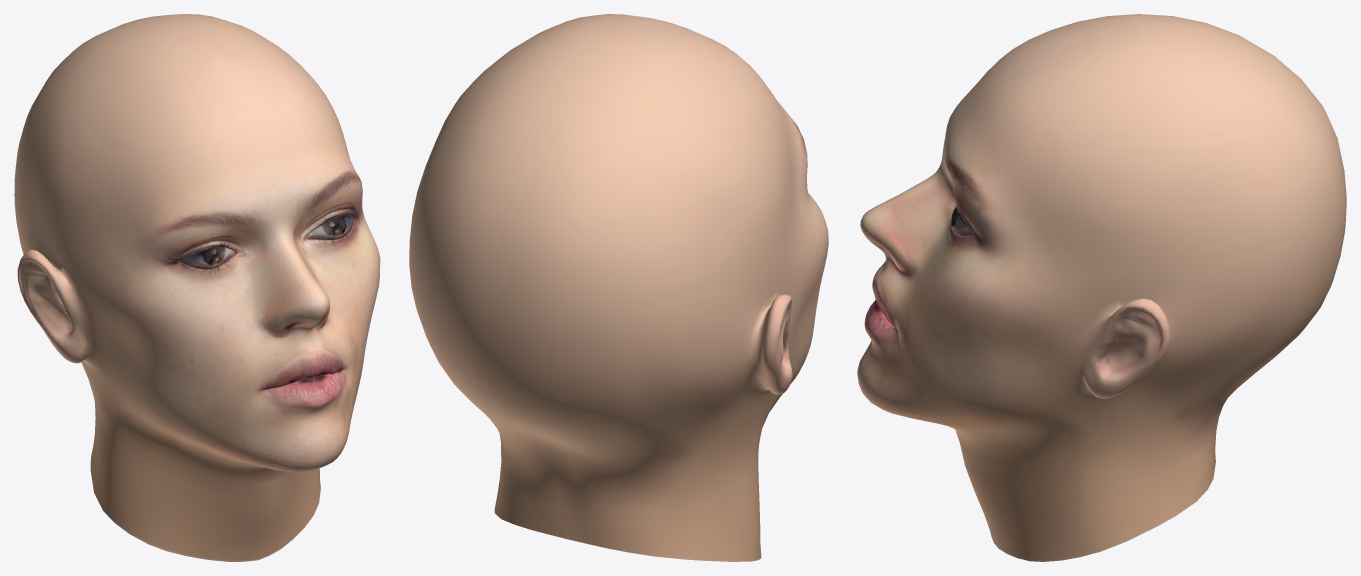
Rendered from scarlett_johansson_3d_headface.gltf.
The picture shows the model from 3 angles, left to right: view 1: azimuth 30°, elevation 25°; view 2: azimuth 150°, elevation 25°; view 3: azimuth 270°, elevation 25°; orthographic projection. The views are drawn at different scales.
Parts seen in each view (by area): view 1: Object_4, Object_3, Object_2; view 2: Object_4; view 3: Object_4.
Boxes of the visible parts, x1,y1,x2,y2 form: Object_4: [14, 14, 380, 561]; Object_3: [179, 246, 234, 269]; Object_2: [305, 214, 353, 239]; Object_4: [409, 14, 828, 561]; Object_4: [857, 14, 1346, 561].
Bounding box in the file's own units: 195 × 281 × 244.
7 materials, 7 textured.
